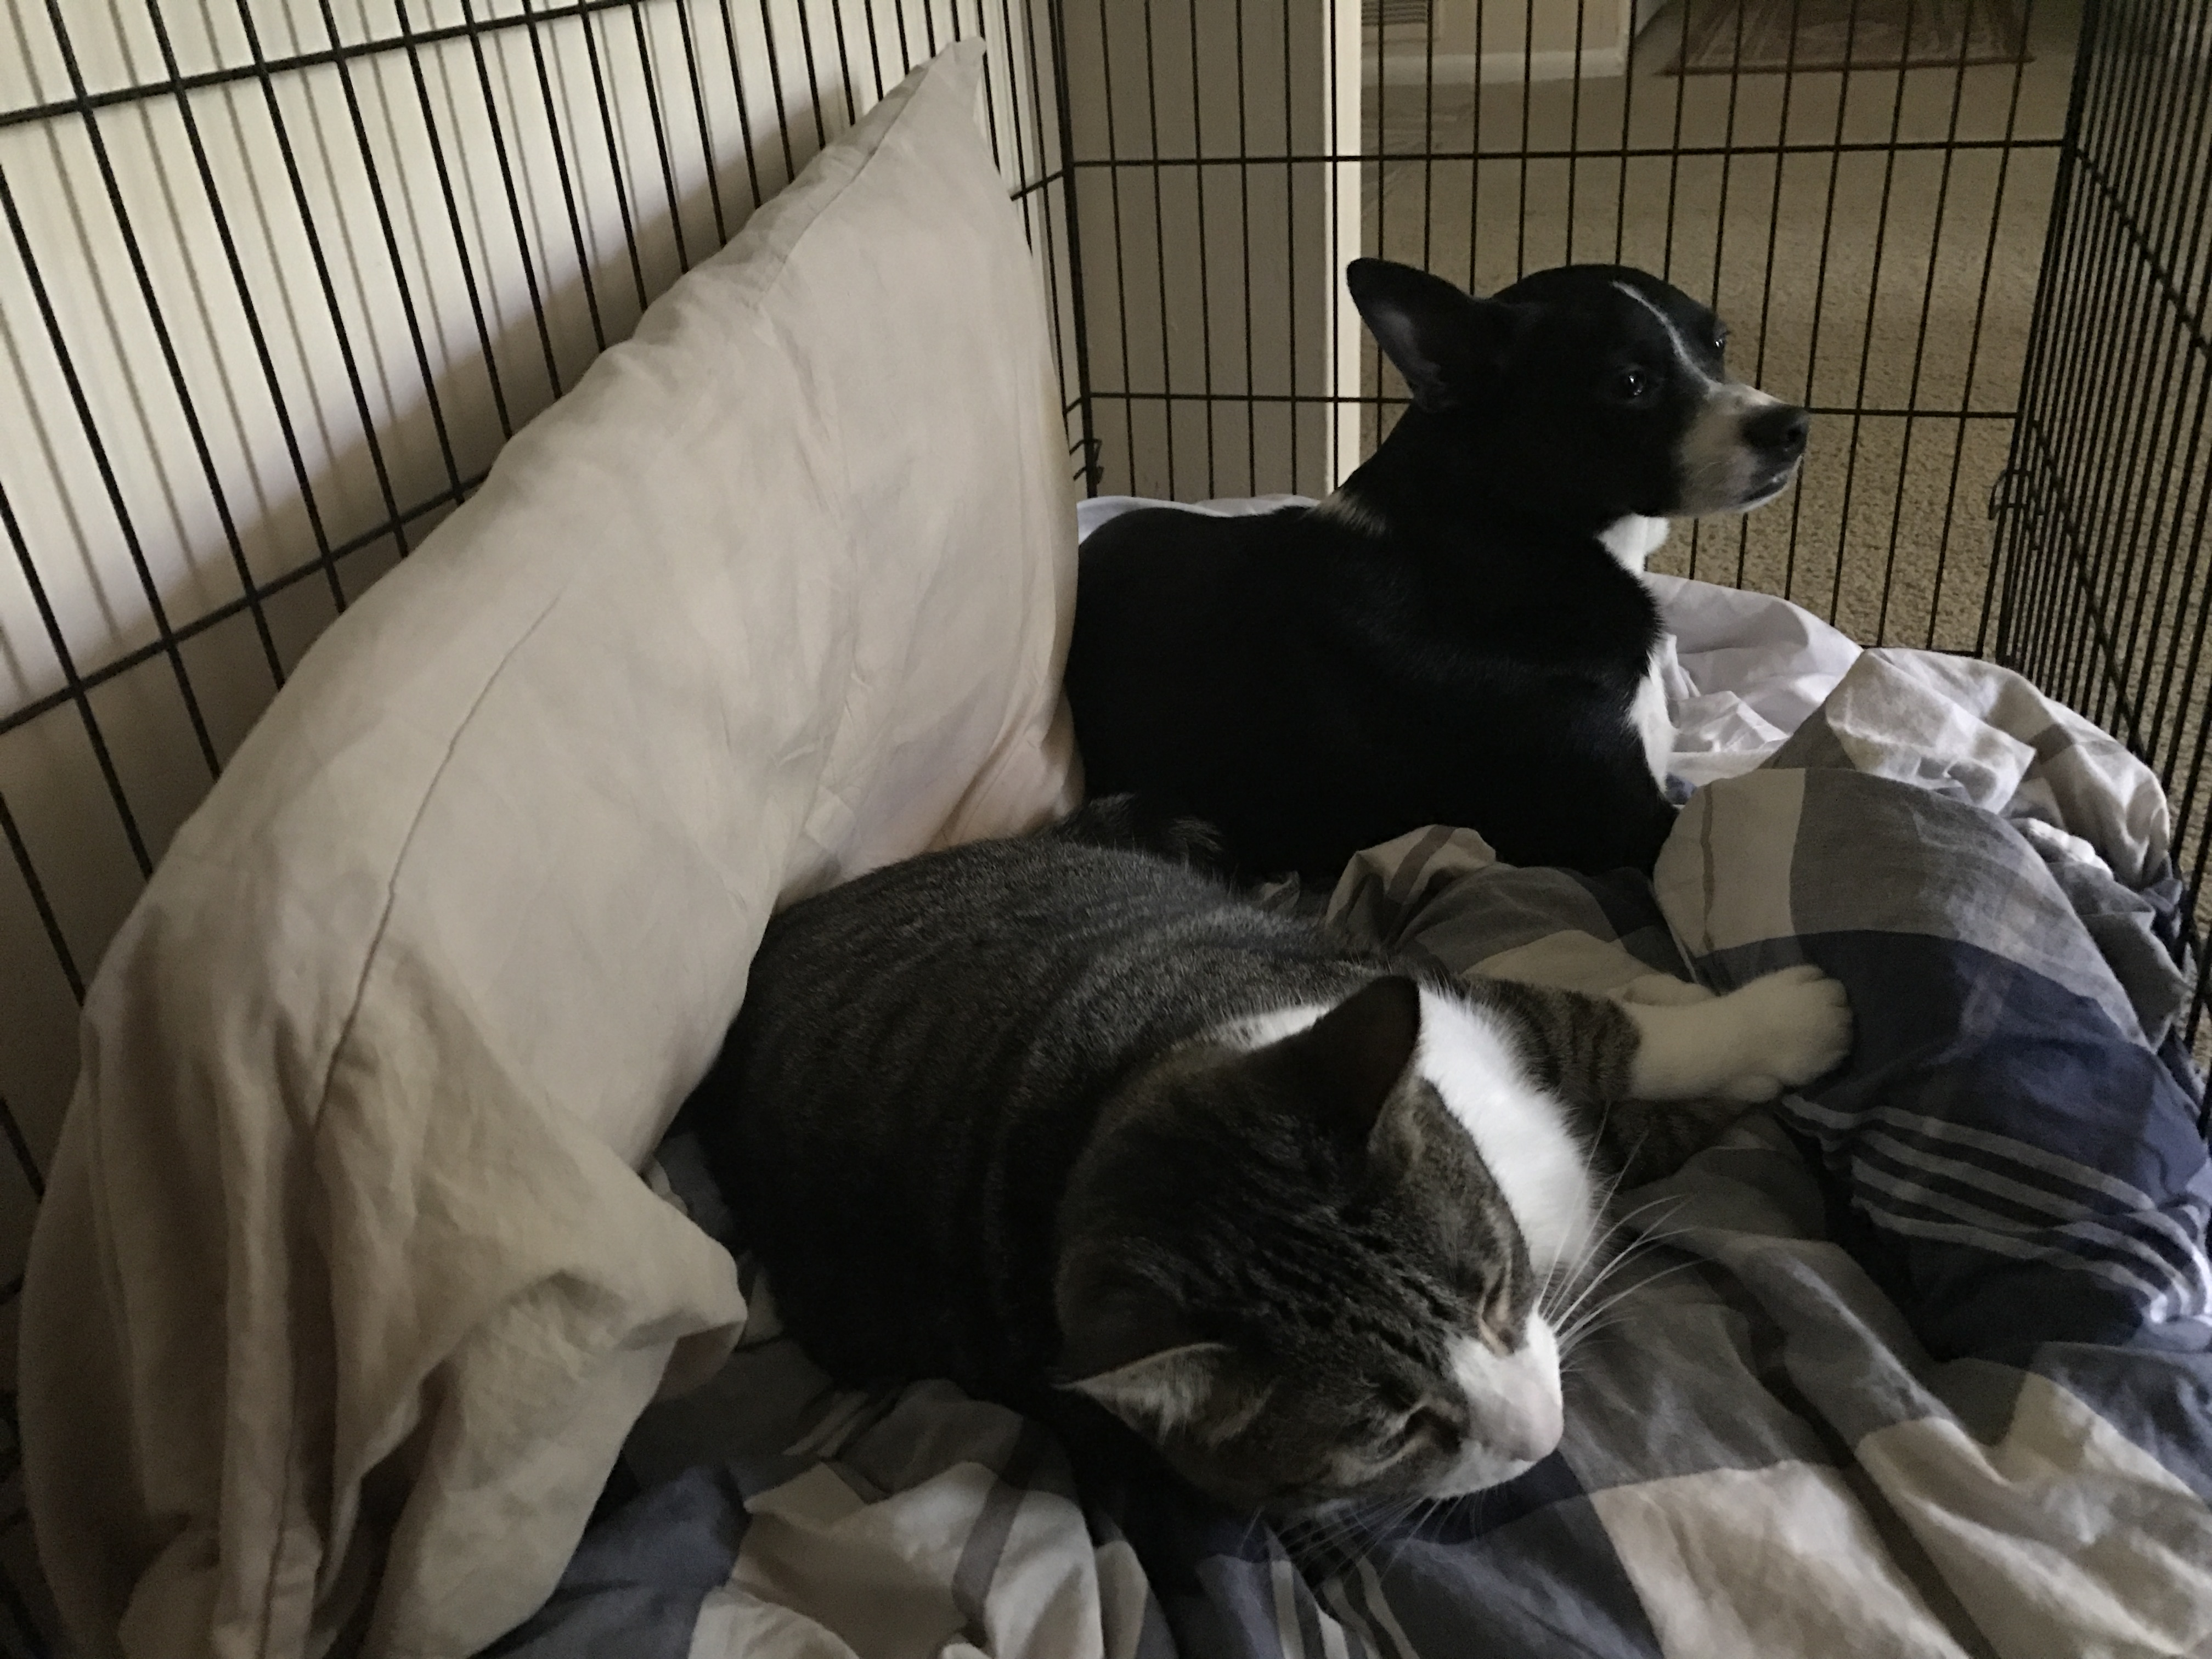Harley: (1049, 239, 1858, 877)
